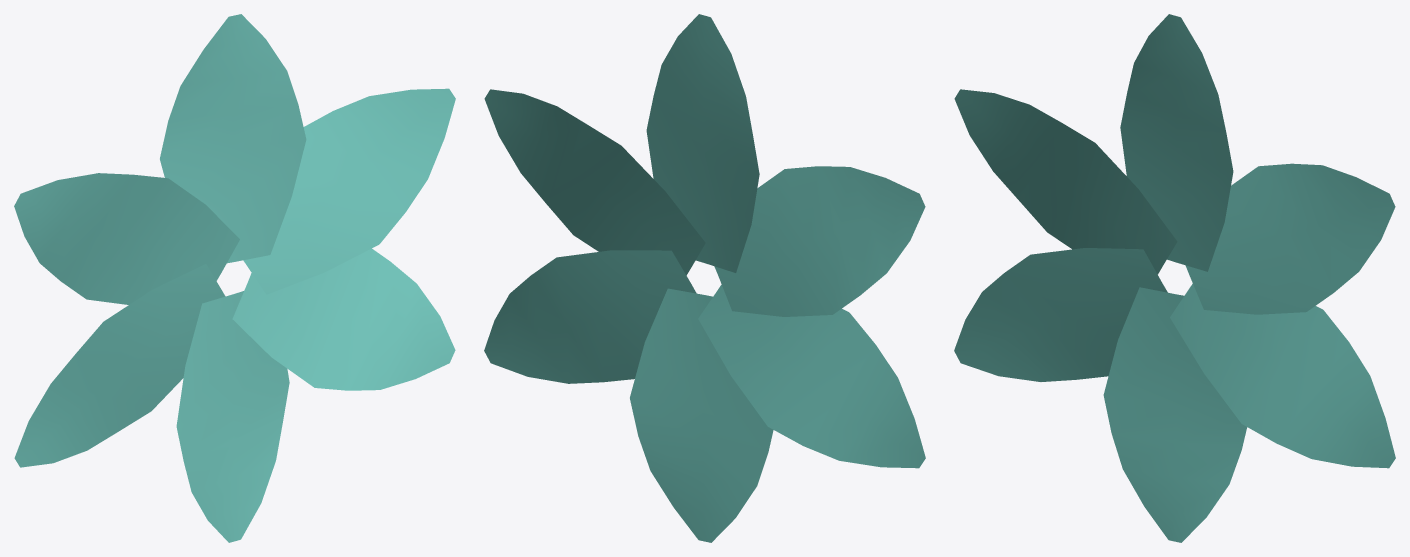
File: MODEL_NPC_Fan.fbx
3 views of the same model, side by side, from view 1: azimuth 30°, elevation 25°; view 2: azimuth 150°, elevation 25°; view 3: azimuth 330°, elevation 25° (orthographic).
Visible parts, largest first — view 1: Fan.001; view 2: Fan.001; view 3: Fan.001.
Part boxes in pixels (<box>): Fan.001: <box>14,14,455,542</box>; Fan.001: <box>484,14,925,542</box>; Fan.001: <box>954,14,1395,542</box>.
Bounding box in the file's own units: 31.86 × 36.27 × 2.1.
